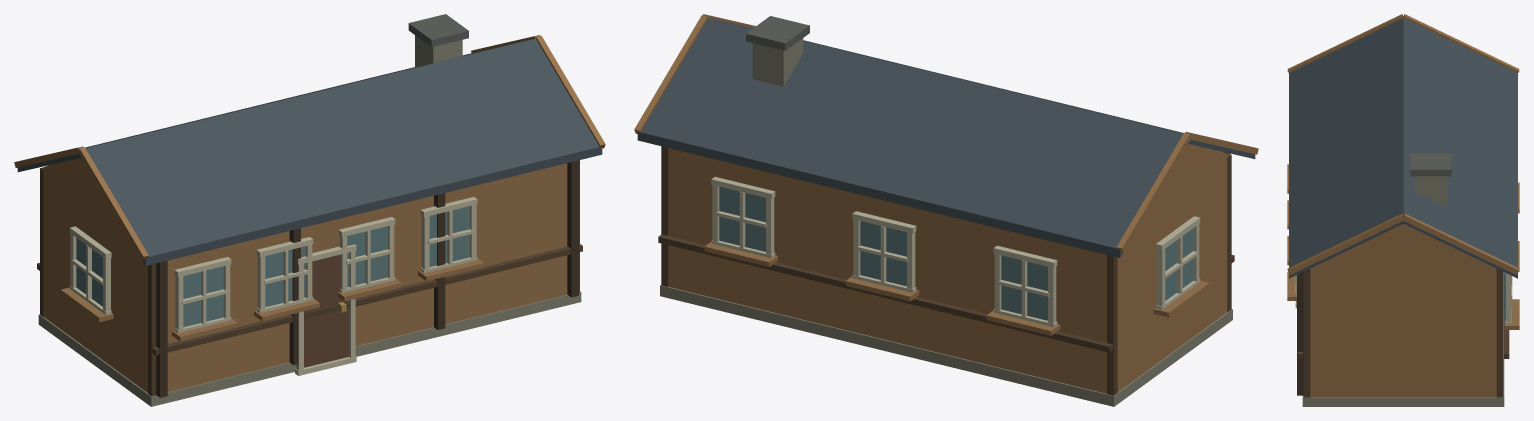
File: Building_Settlement_TimberLonghouse_001.glb
3 renders of one model, left to right at view 1: azimuth 30°, elevation 25°; view 2: azimuth 150°, elevation 25°; view 3: azimuth 270°, elevation 25°, orthographic. The views are drawn at different scales.
Parts seen in each view (by area): view 1: Building_Settlement_TimberLonghouse_001; view 2: Building_Settlement_TimberLonghouse_001; view 3: Building_Settlement_TimberLonghouse_001.
Part boxes in pixels (x1,y1,x2,y2): Building_Settlement_TimberLonghouse_001: (14, 14, 605, 406); Building_Settlement_TimberLonghouse_001: (634, 14, 1258, 406); Building_Settlement_TimberLonghouse_001: (1287, 14, 1519, 406).
Size of the model in its own units: 8.65 by 4.31 by 4.21.
